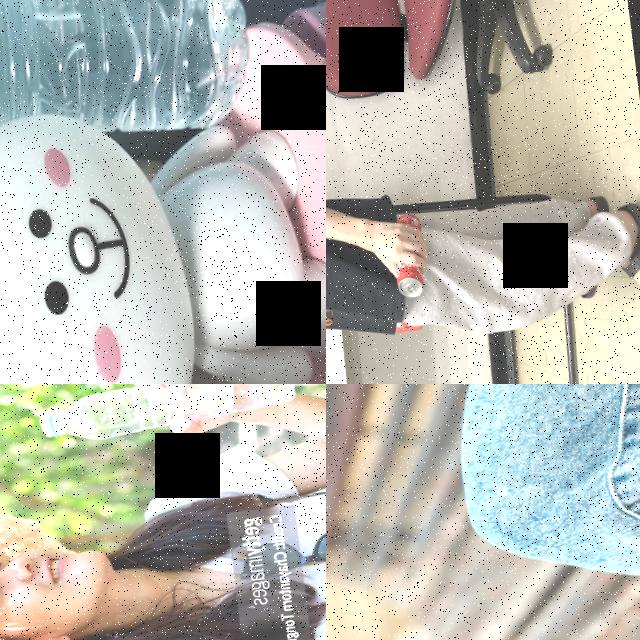bottle: (0, 0, 260, 182), (39, 384, 301, 448)
can: (388, 210, 432, 298)
